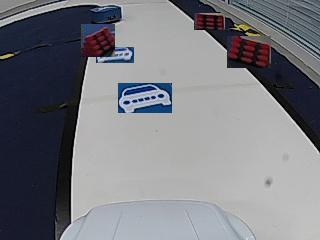prop: (90, 6, 121, 24)
